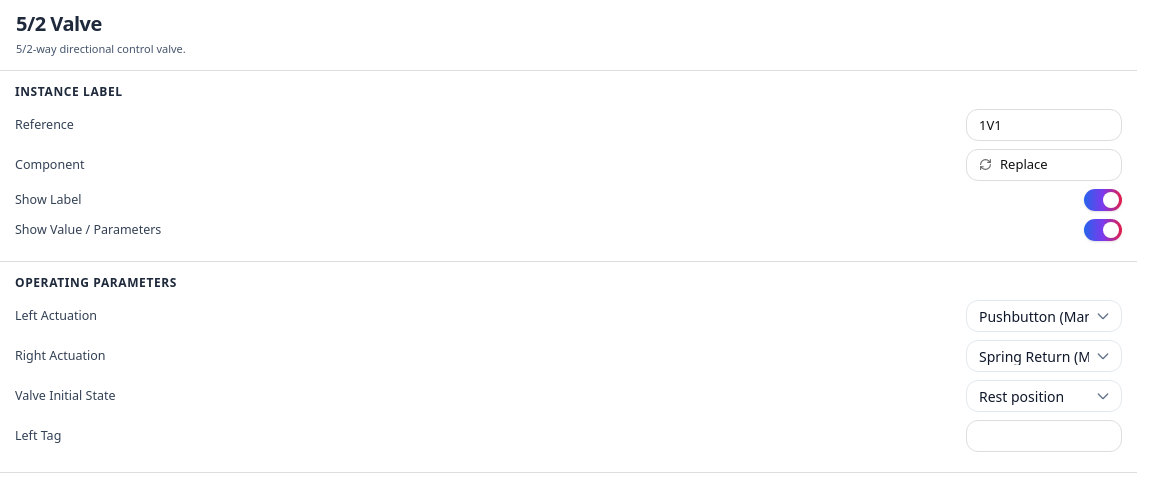
Test case: inspector matches the Circuit Lab layout › opens a searchable, categorised list of every other part and replaces on pick
Click the button with aria-label "Replace Component": (1044, 165) top-left (966, 149), bottom-right (1122, 181)
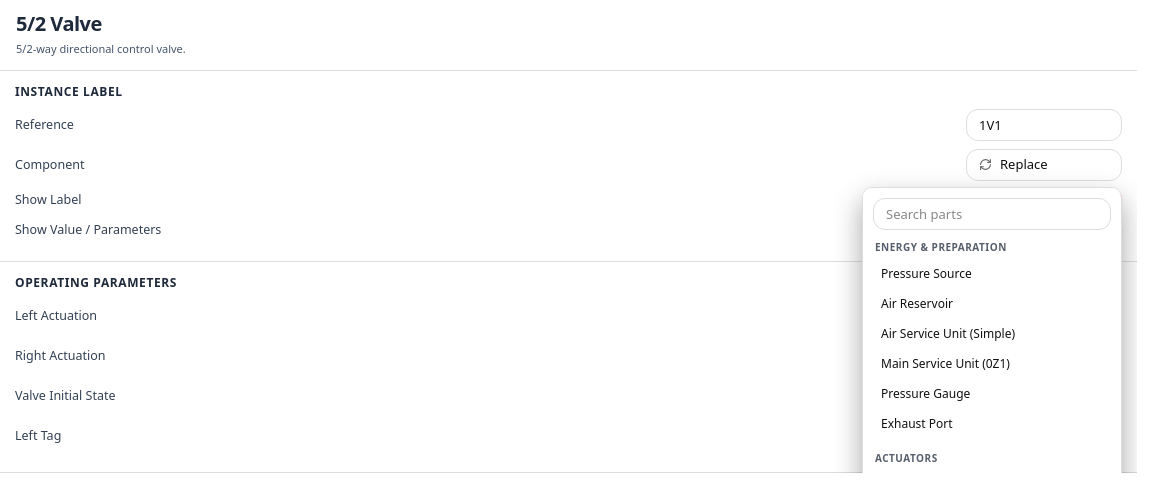
Expected: the option does not show "5/2 Valve"
In the field with placeholder "Search parts": (992, 214) top-left (873, 198), bottom-right (1111, 230), type "double-acting"
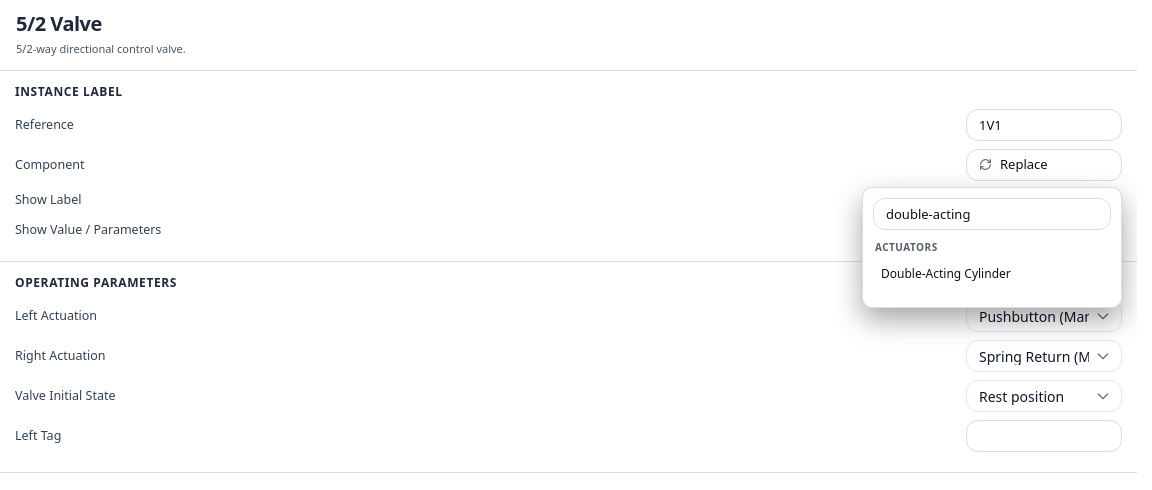
Now the option "Double-Acting Cylinder" is shown
Click the option "Double-Acting Cylinder": (992, 274) top-left (873, 259), bottom-right (1111, 289)
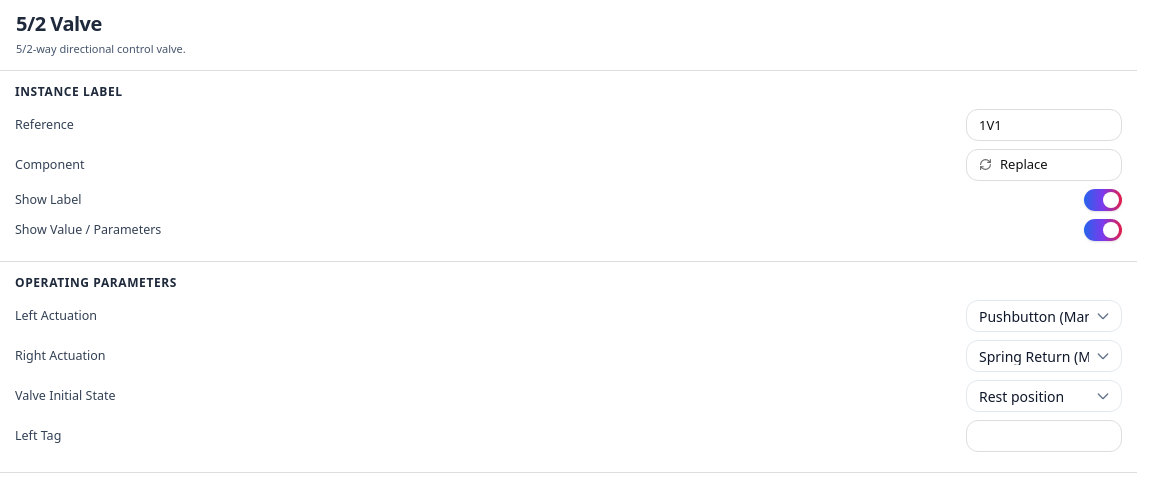
Now the list is gone
